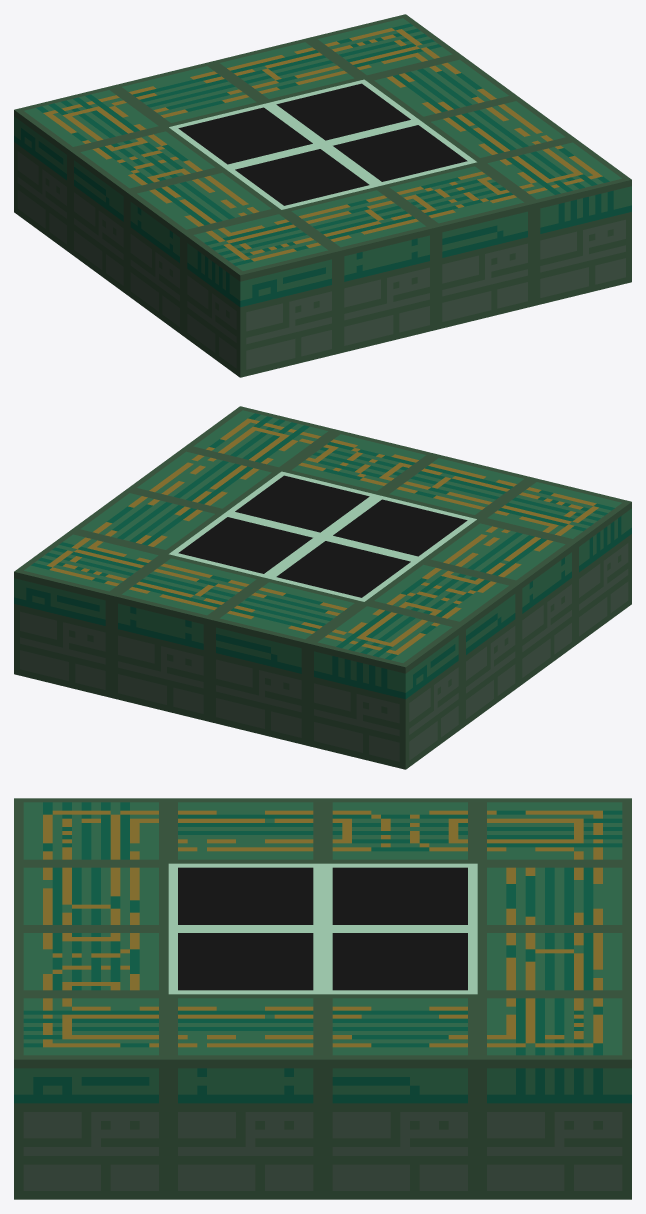
Rendered from m_tiles_3_4x4.fbx.
3 views of the same model, one above another, from view 1: azimuth 30°, elevation 25°; view 2: azimuth 150°, elevation 25°; view 3: azimuth 270°, elevation 25° (orthographic). The views are drawn at different scales.
Visible parts, largest first — view 1: m_tiles_3_4x4; view 2: m_tiles_3_4x4; view 3: m_tiles_3_4x4.
Boxes of the visible parts, x1,y1,x2,y2 form: m_tiles_3_4x4: (14,14,631,377); m_tiles_3_4x4: (14,406,631,769); m_tiles_3_4x4: (14,798,631,1199).
Bounding box in the file's own units: 6.4 × 1.6 × 6.4.
1 material, 1 textured.
